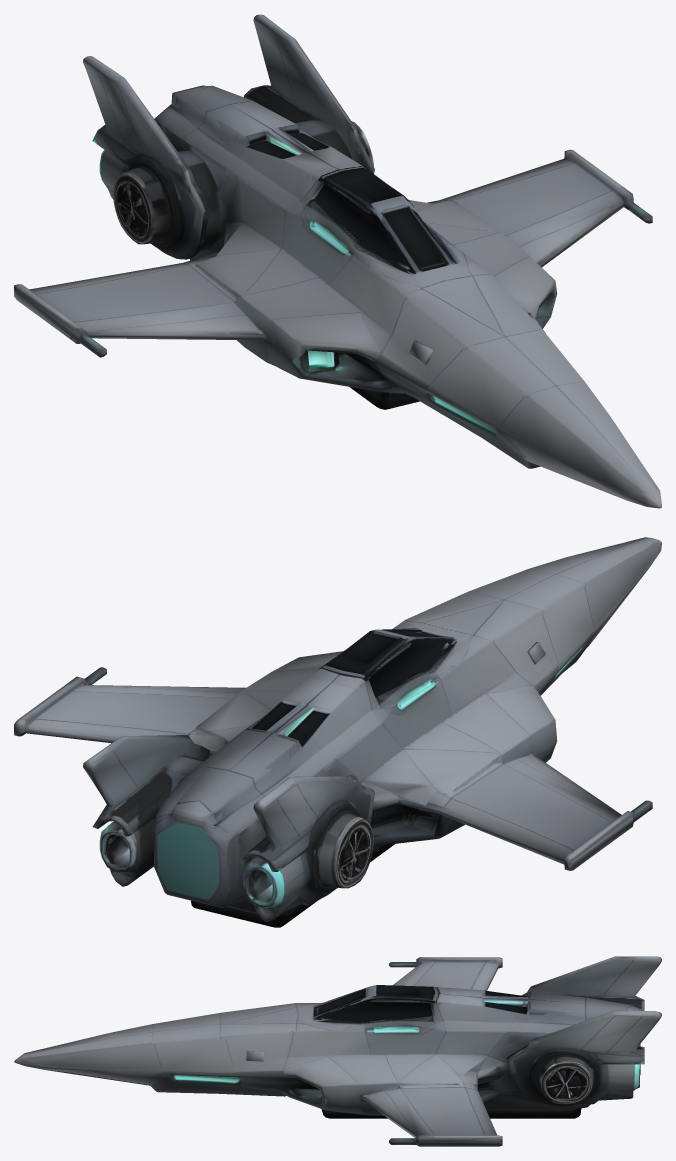
Rendered from scout.glb.
The picture shows the model from 3 angles, top to bottom: view 1: azimuth 30°, elevation 25°; view 2: azimuth 150°, elevation 25°; view 3: azimuth 270°, elevation 25°; orthographic projection. The views are drawn at different scales.
Parts seen in each view (by area): view 1: scout; view 2: scout; view 3: scout.
Part boxes in pixels (x1,y1,x2,y2): scout: (14, 14, 661, 508); scout: (14, 537, 661, 927); scout: (14, 956, 661, 1146).
Size of the model in its own units: 1.25 by 0.3925 by 1.9.
1 material, 1 textured.
